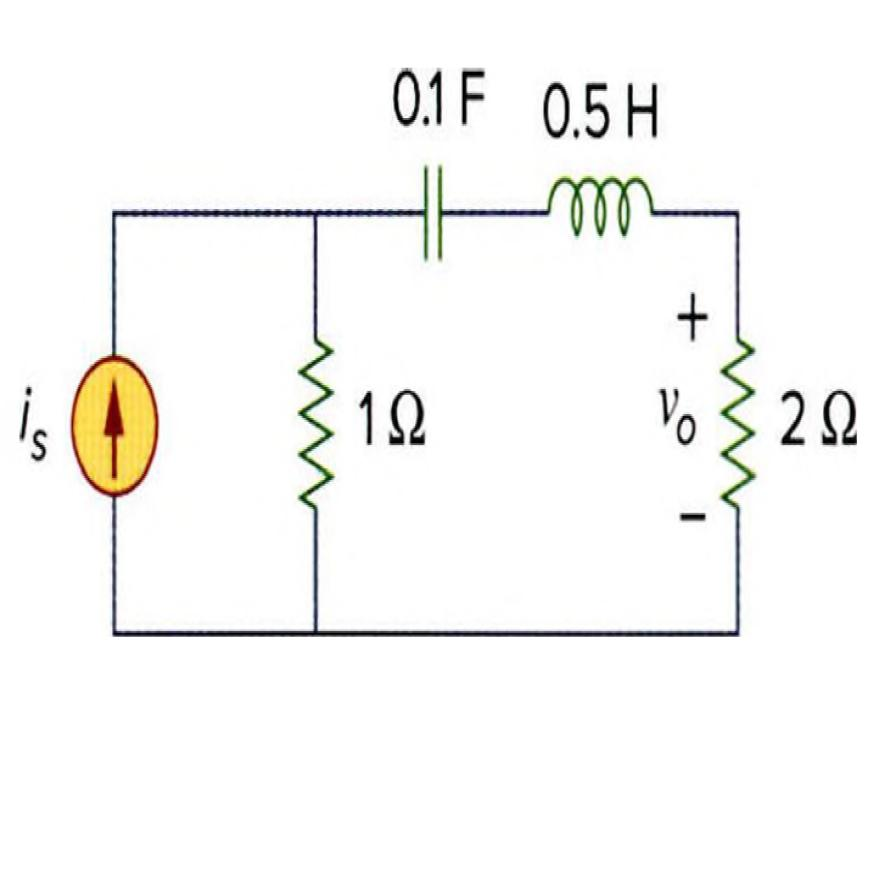C1: (410, 163, 454, 261)
I1: (71, 354, 158, 497)
L1: (528, 147, 658, 263)
